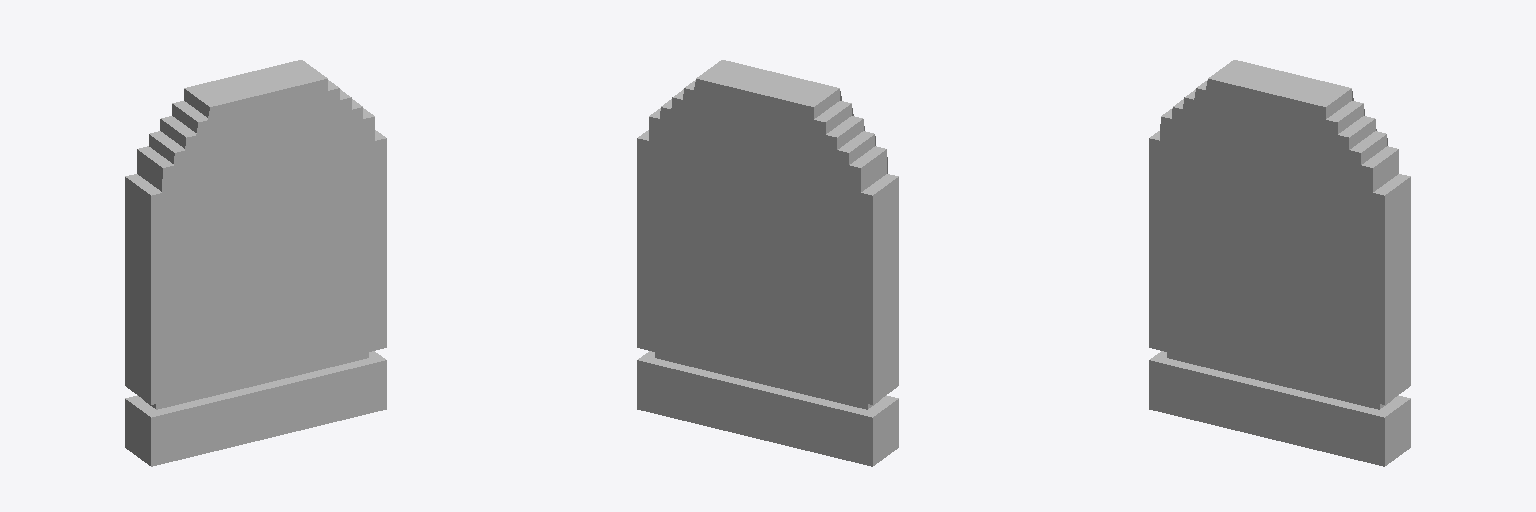
The model's file is Piercing.obj.
3 renders of one model, left to right at view 1: azimuth 30°, elevation 25°; view 2: azimuth 150°, elevation 25°; view 3: azimuth 330°, elevation 25°, orthographic.
Parts seen in each view (by area): view 1: Piercing_Plane.104; view 2: Piercing_Plane.104; view 3: Piercing_Plane.104.
Boxes of the visible parts, x1,y1,x2,y2 form: Piercing_Plane.104: [125, 60, 386, 466]; Piercing_Plane.104: [637, 60, 898, 466]; Piercing_Plane.104: [1149, 60, 1410, 466].
Bounding box in the file's own units: 1.04 × 1.46 × 0.2.